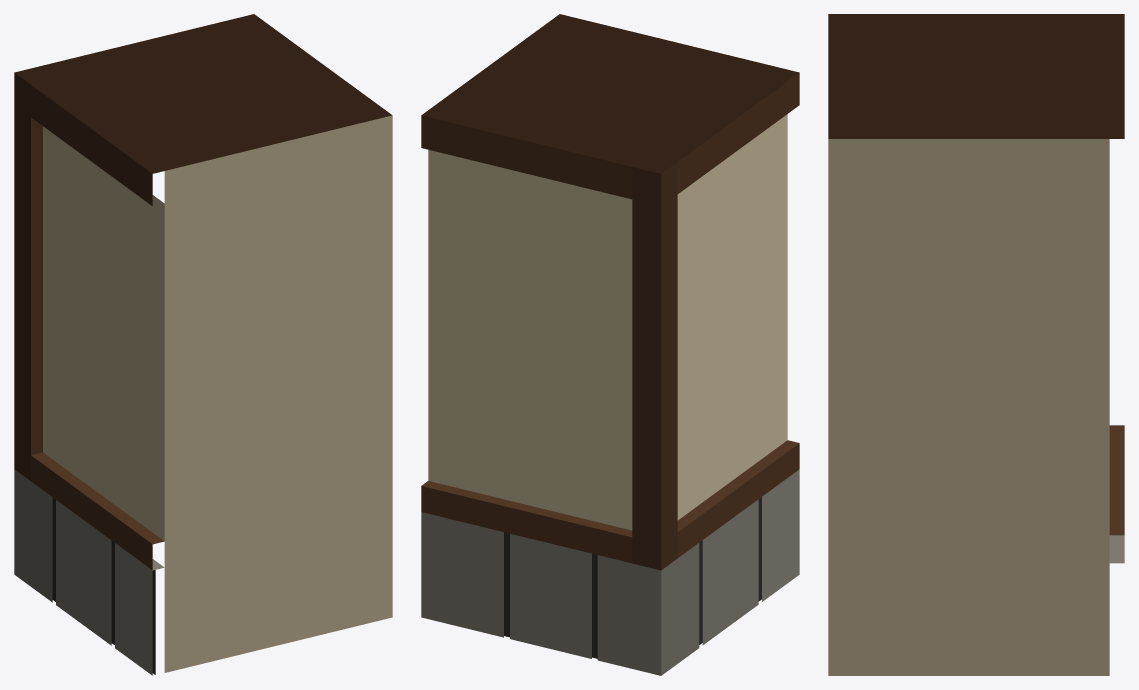
The model's file is tile_house_wall_10.glb.
The picture shows the model from 3 angles, left to right: view 1: azimuth 30°, elevation 25°; view 2: azimuth 150°, elevation 25°; view 3: azimuth 270°, elevation 25°; orthographic projection. The views are drawn at different scales.
Parts seen in each view (by area): view 1: tile_house_wall_10; view 2: tile_house_wall_10; view 3: tile_house_wall_10.
Boxes of the visible parts, bbox=[...] form: tile_house_wall_10: bbox=[14, 14, 392, 675]; tile_house_wall_10: bbox=[421, 14, 799, 675]; tile_house_wall_10: bbox=[828, 14, 1124, 675].
Size of the model in its own units: 1 by 2 by 1.
